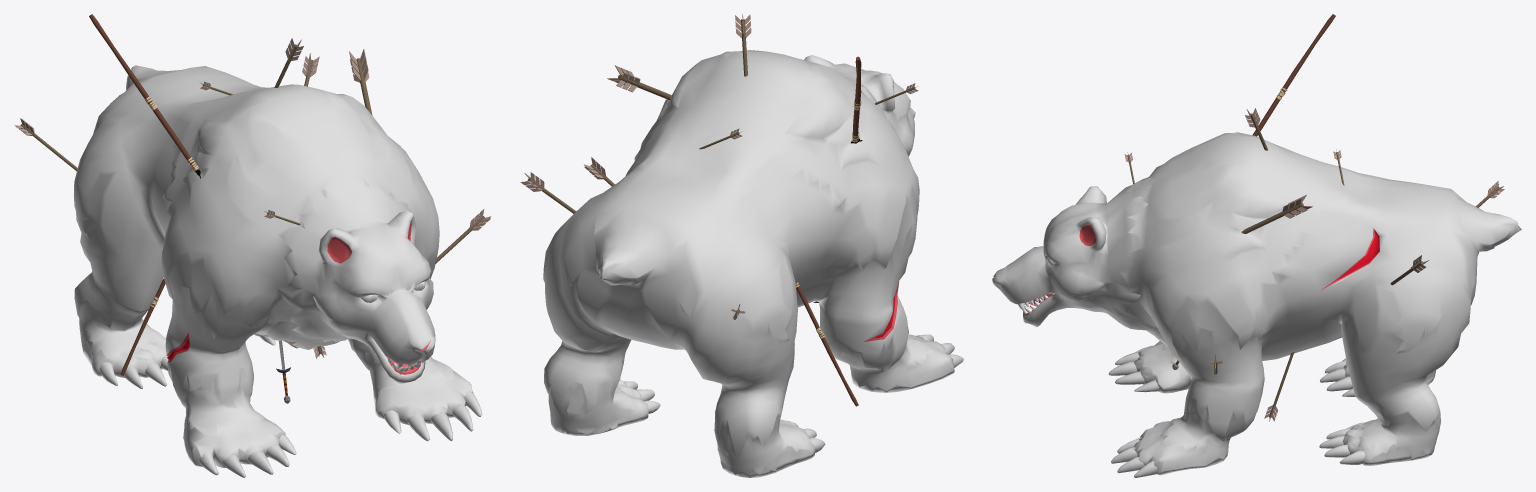
The model's file is OursBoss (1).fbx.
The picture shows the model from 3 angles, left to right: view 1: azimuth 30°, elevation 25°; view 2: azimuth 150°, elevation 25°; view 3: azimuth 270°, elevation 25°; orthographic projection. The views are drawn at different scales.
Parts seen in each view (by area): view 1: Sword.039; view 2: Sword.039; view 3: Sword.039.
Boxes of the visible parts, x1,y1,x2,y2 form: Sword.039: (14,14,491,477); Sword.039: (520,14,963,477); Sword.039: (992,14,1521,477).
Bounding box in the file's own units: 2.85 × 4.41 × 3.19.
